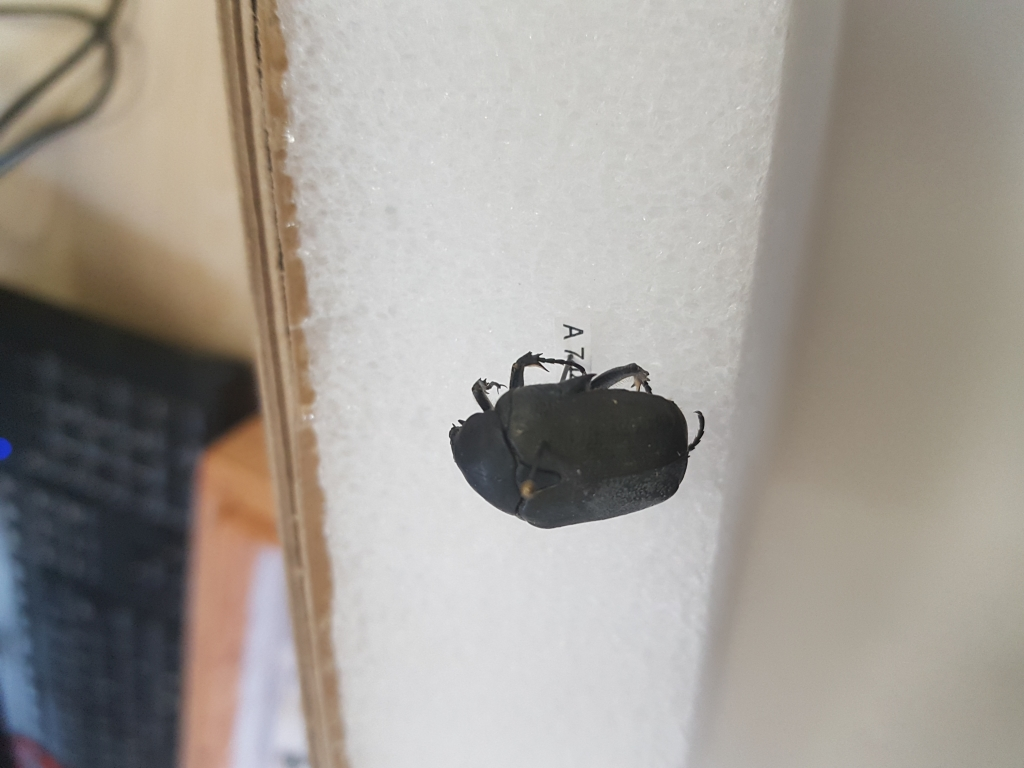Protaetia_afflicta: (441, 343, 712, 539)
